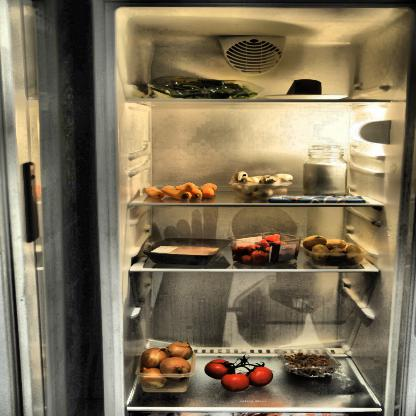carrot: (142, 182, 218, 202)
cheese: (288, 78, 325, 97)
chicken: (162, 240, 214, 261)
chocolate: (268, 195, 367, 204)
mushrooms: (232, 173, 294, 197)
onion: (139, 340, 196, 390)
potato: (302, 234, 368, 265)
shrimp: (281, 350, 334, 376)
spinach: (144, 75, 262, 98)
strawberries: (233, 234, 298, 264)
tomato: (205, 356, 273, 390)
